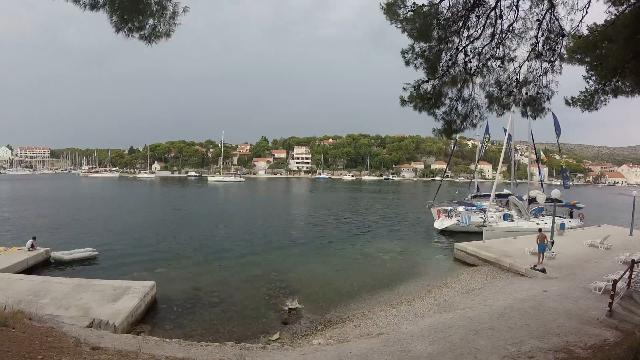Sailboat: (203, 168, 249, 185), (134, 168, 158, 182)
